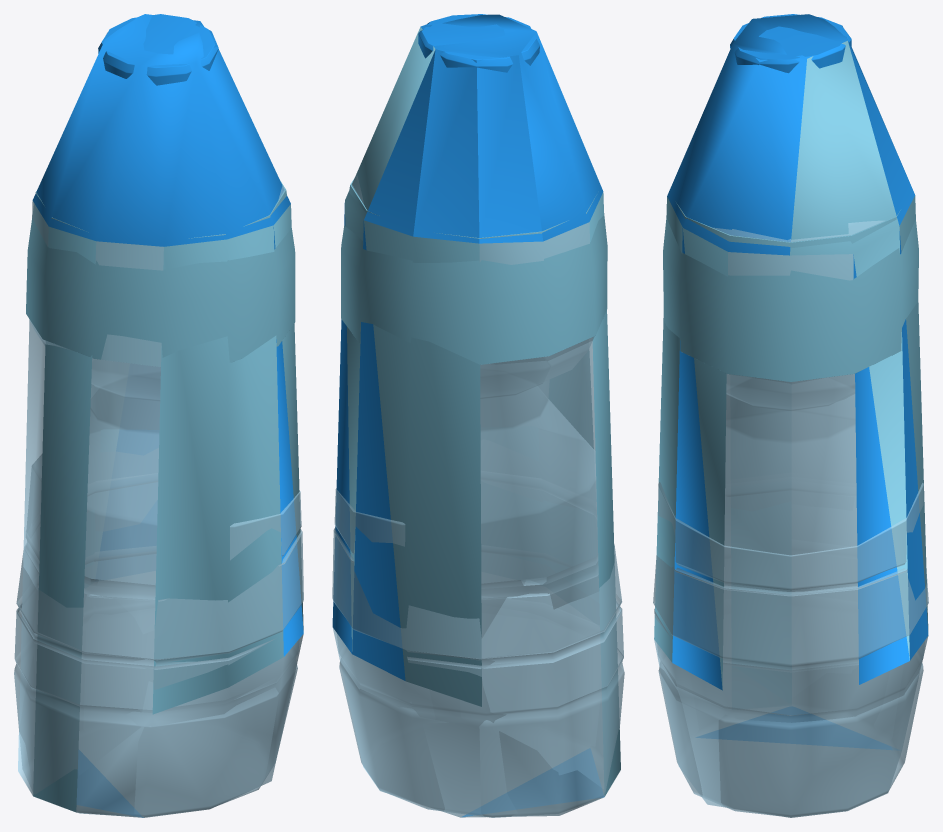
File: bottle.fbx
3 views of the same model, side by side, from view 1: azimuth 30°, elevation 25°; view 2: azimuth 150°, elevation 25°; view 3: azimuth 270°, elevation 25° (orthographic).
Visible parts, largest first — view 1: c_bottle, bottle; view 2: c_bottle, bottle; view 3: c_bottle, bottle.
Boxes of the visible parts, bbox=[...] form: c_bottle: bbox=[18, 14, 303, 817]; bottle: bbox=[14, 14, 303, 817]; c_bottle: bbox=[332, 14, 620, 817]; bottle: bbox=[332, 14, 624, 817]; c_bottle: bbox=[654, 14, 928, 817]; bottle: bbox=[653, 14, 928, 817].
Size of the model in its own units: 10.01 by 27.35 by 9.28.
